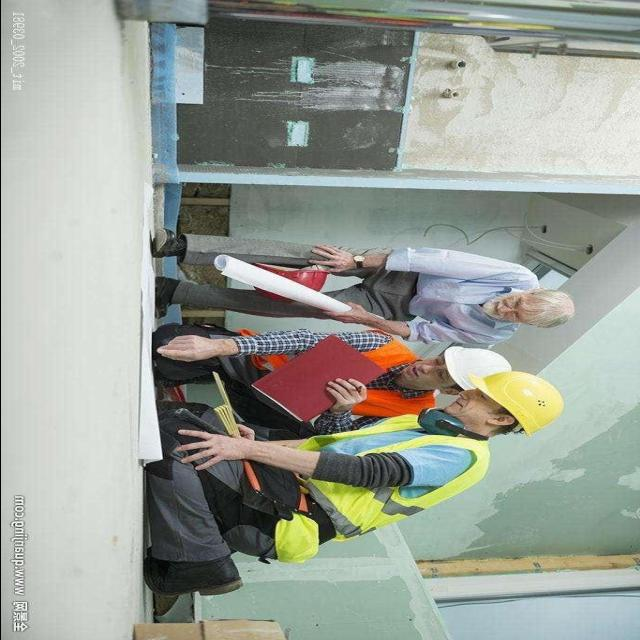helmet: (466, 370, 582, 437), (433, 341, 519, 388)
